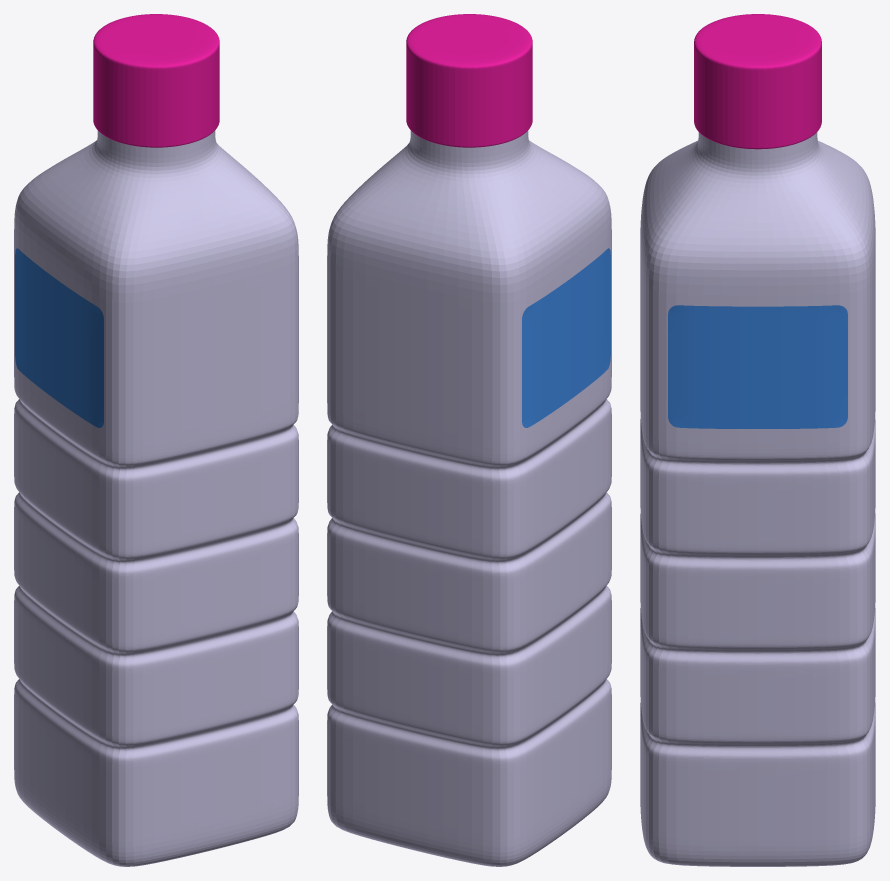
Rendered from simple-water-bottle.fbx.
3 renders of one model, left to right at view 1: azimuth 30°, elevation 25°; view 2: azimuth 150°, elevation 25°; view 3: azimuth 270°, elevation 25°, orthographic.
Visible parts, largest first — view 1: Bình Nước.001; view 2: Bình Nước.001; view 3: Bình Nước.001.
Part boxes in pixels (x1=…): Bình Nước.001: x1=14, y1=14, x2=298, y2=866; Bình Nước.001: x1=327, y1=14, x2=611, y2=866; Bình Nước.001: x1=640, y1=14, x2=875, y2=866.
Size of the model in its own units: 359 by 1312 by 358.
